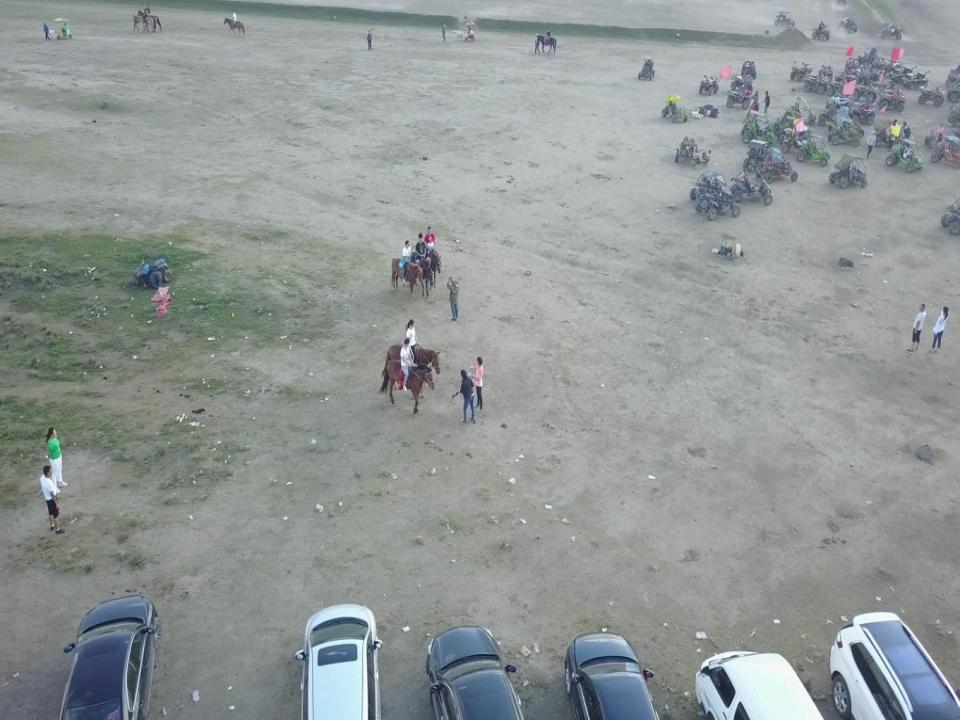car: (831, 602, 960, 719), (58, 593, 161, 720), (296, 602, 385, 720), (424, 625, 524, 720), (561, 630, 660, 720)
